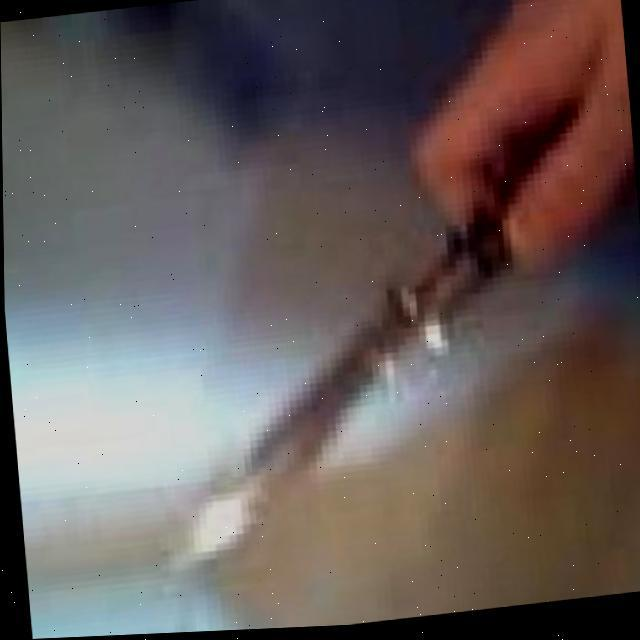knife: (136, 117, 614, 575)
